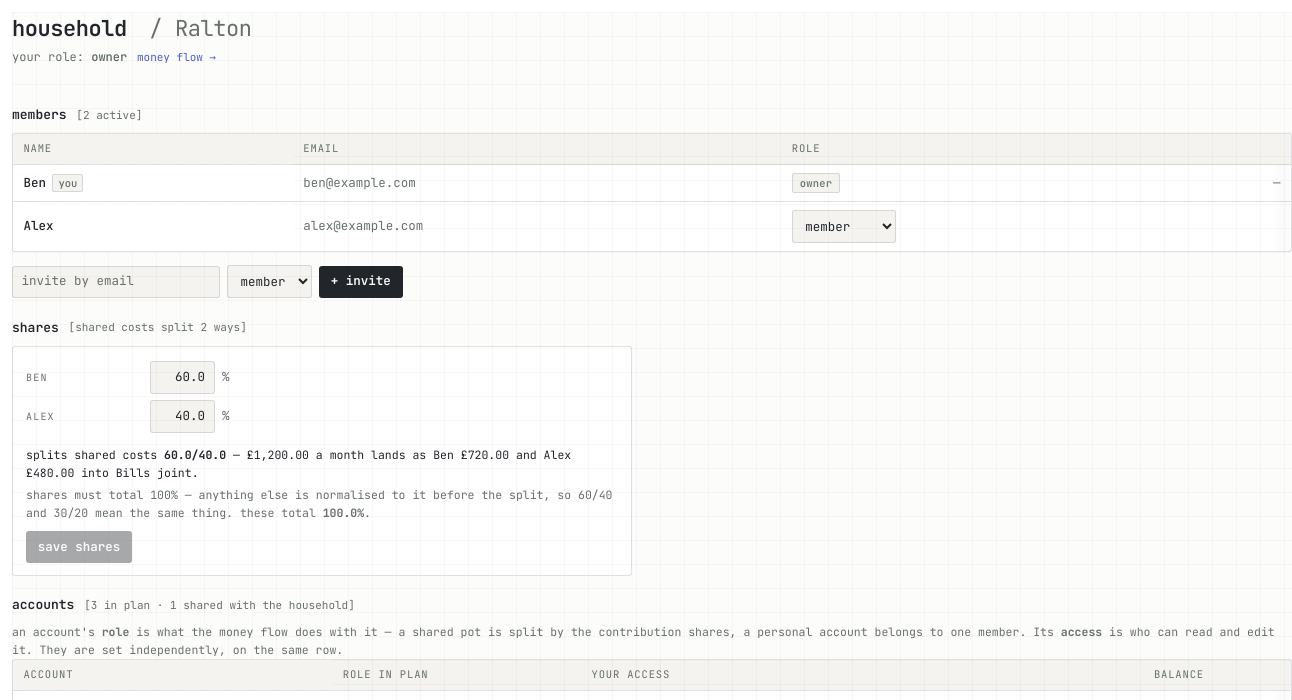
Test: HouseholdDetailPage — the shares block › notes that the shares are normalised to 100%
This screenshot has width=1292, height=700.
Replace the text in the field named "Ben's share of shared costs, percent" with "70" at (182, 378), box [150, 362, 214, 394]
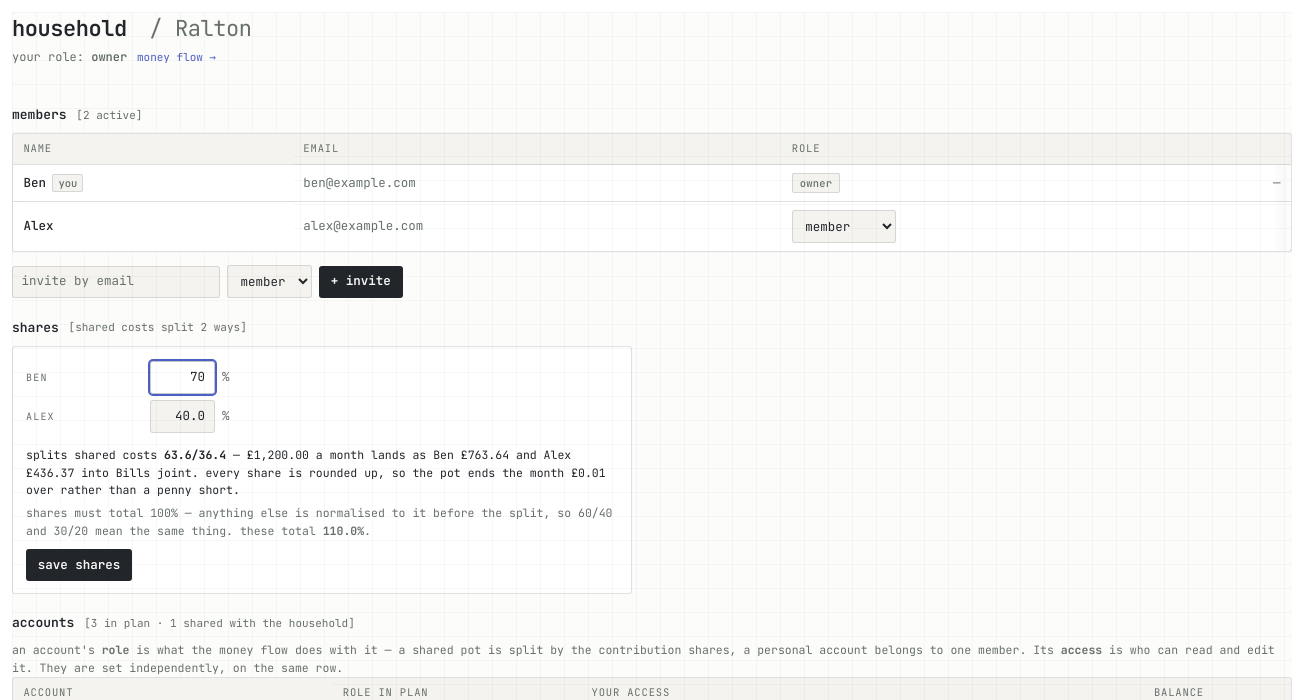
Check: the text "shares must total 100%" shows "these total 110.0%", box [26, 504, 618, 539]
Check: the text "splits shared costs" shows "splits shared costs 63.6/36.4", box [26, 446, 618, 499]
